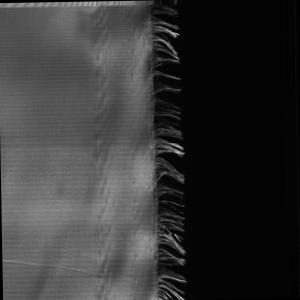Damage: (140, 1, 196, 300)
